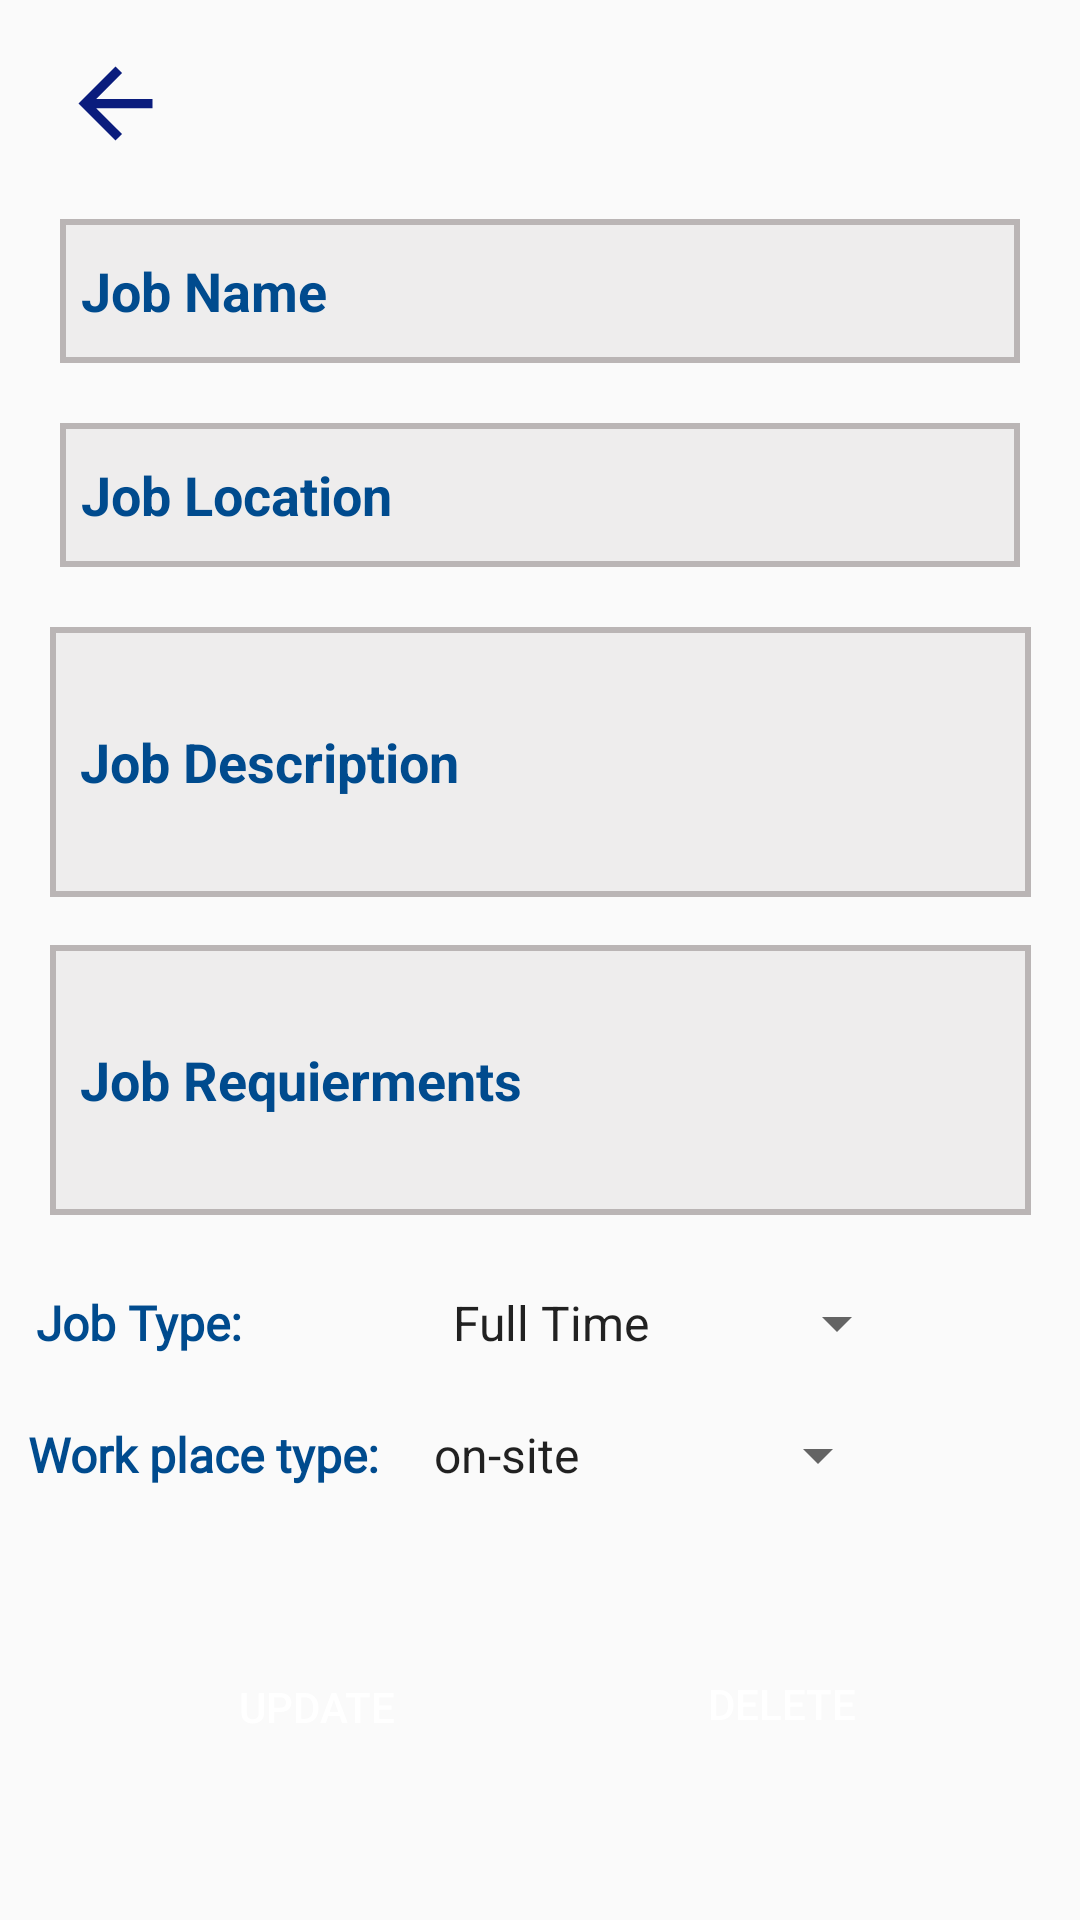

Icon bounding boxes for this 1080×1920 phone screenshot, format (x1, y1, x2, y2):
arrow back: (78, 66, 153, 141)
